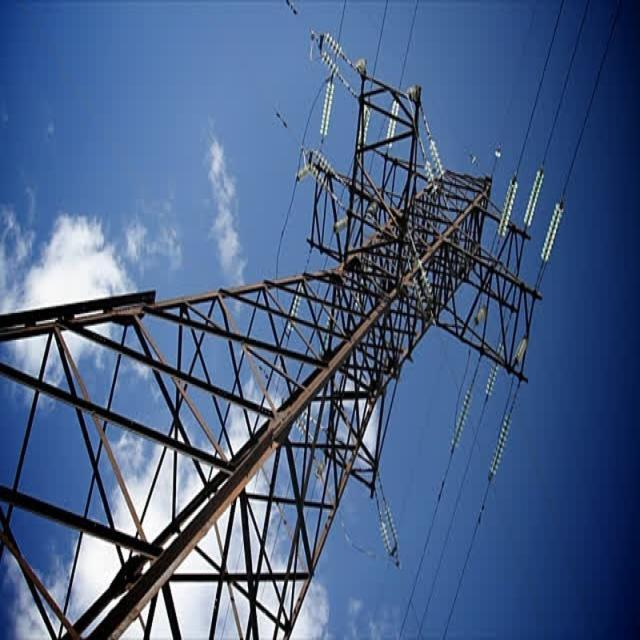non-critical vegetation: (0, 64, 565, 632)
